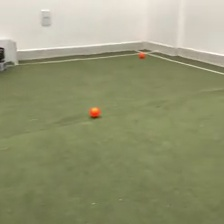ball: (89, 105, 101, 117), (138, 50, 145, 59)
